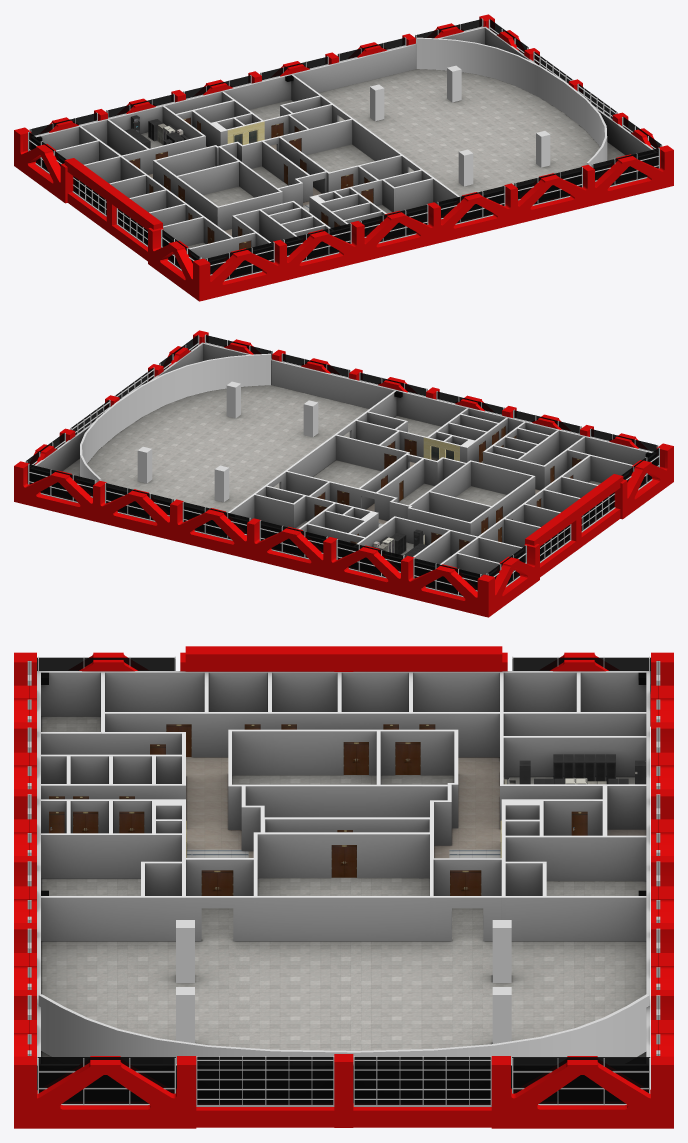
File: NanJingMetroBuilding_5F.gltf
The picture shows the model from 3 angles, top to bottom: view 1: azimuth 30°, elevation 25°; view 2: azimuth 150°, elevation 25°; view 3: azimuth 270°, elevation 25°; orthographic projection. The views are drawn at different scales.
Parts seen in each view (by area): view 1: 5FWall (1), 5FGangCai, 5FRoom, 5FWindowsGlass, 5FWall, 5FWindows, 5FZhuZi, 5FDoubleDoor, JiGui14, FifthFloor_loft_door1; view 2: 5FWall (1), 5FGangCai, 5FRoom, 5FWindowsGlass, 5FWall, 5FWindows, 5FZhuZi, 5FDoubleDoor, JiGui14, FifthFloor_loft_door1; view 3: 5FWall (1), 5FRoom, 5FGangCai, 5FWindowsGlass, 5FWall, 5FCorridor, 5FWindows, 5FDoubleDoor, 5FZhuZi, 5F_SingleDoor, JiGui14, 5FLoftGround.
Part boxes in pixels (box(x1,y1,x2,y2)): 5FWall (1): box(35, 26, 653, 259); 5FGangCai: box(14, 14, 673, 301); 5FRoom: box(107, 69, 625, 248); 5FWindowsGlass: box(29, 19, 661, 279); 5FWall: box(416, 37, 607, 166); 5FWindows: box(28, 18, 662, 281); 5FZhuZi: box(370, 65, 550, 186); 5FDoubleDoor: box(129, 117, 373, 249); JiGui14: box(124, 119, 189, 148); FifthFloor_loft_door1: box(227, 121, 264, 144); 5FWall (1): box(34, 342, 652, 575); 5FGangCai: box(14, 330, 673, 617); 5FRoom: box(62, 385, 600, 564); 5FWindowsGlass: box(26, 335, 658, 595); 5FWall: box(80, 353, 270, 482); 5FWindows: box(25, 334, 659, 597); 5FZhuZi: box(137, 381, 318, 502); 5FDoubleDoor: box(314, 431, 581, 549); JiGui14: box(372, 534, 427, 557); FifthFloor_loft_door1: box(423, 437, 459, 461); 5FWall (1): box(37, 671, 650, 1102); 5FRoom: box(41, 716, 646, 1057); 5FGangCai: box(14, 646, 673, 1128); 5FWindowsGlass: box(29, 657, 658, 1105); 5FWall: box(38, 994, 649, 1063); 5FCorridor: box(186, 757, 646, 858); 5FWindows: box(27, 656, 660, 1106); 5FDoubleDoor: box(73, 724, 481, 895); 5FZhuZi: box(176, 920, 511, 1043); 5F_SingleDoor: box(49, 724, 587, 835); JiGui14: box(504, 754, 628, 784); 5FLoftGround: box(186, 849, 500, 858).
Size of the model in its own units: 5005 by 409 by 3387.
Materials: 37 (32 with a texture image).
